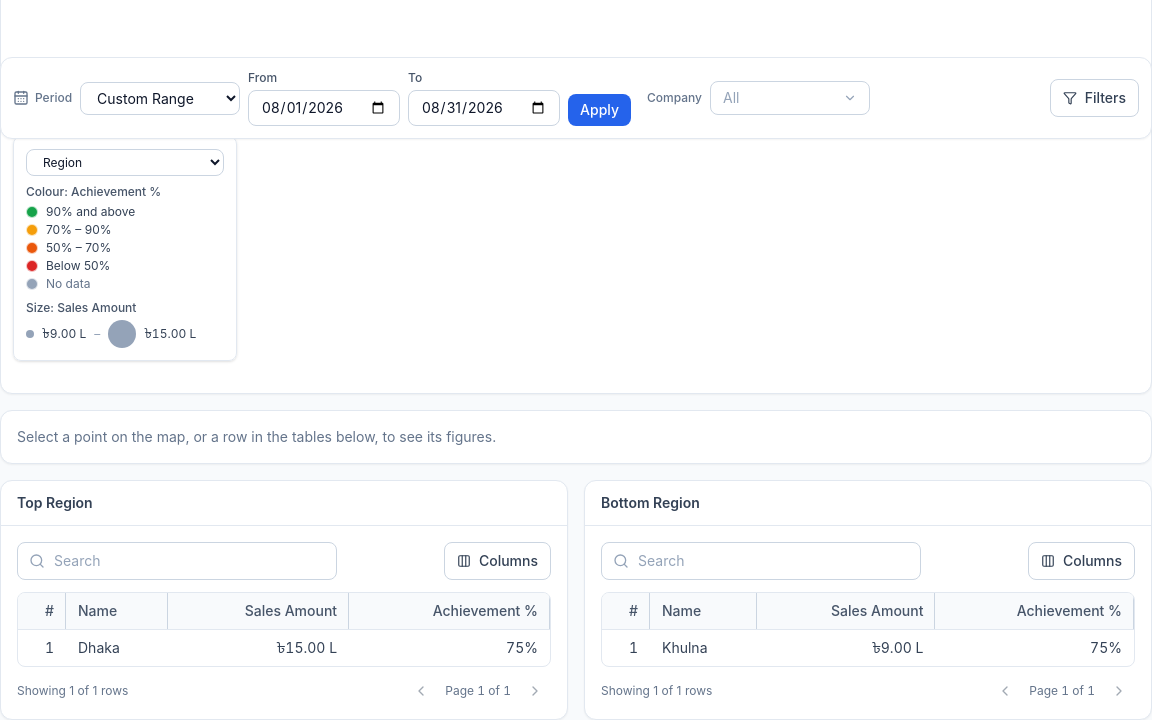
Test: Business Map page › ranks the active layer in Top and Bottom tables, and a row selects and pans to its point
The image size is (1152, 720).
(page scrolled)
Expected: the text "Dhaka" is shown, [78,639,120,656]
Expected: the text "৳15.00 L" is shown, [168,629,349,666]
Click the text "Khulna" at (685, 647), box [662,639,708,656]
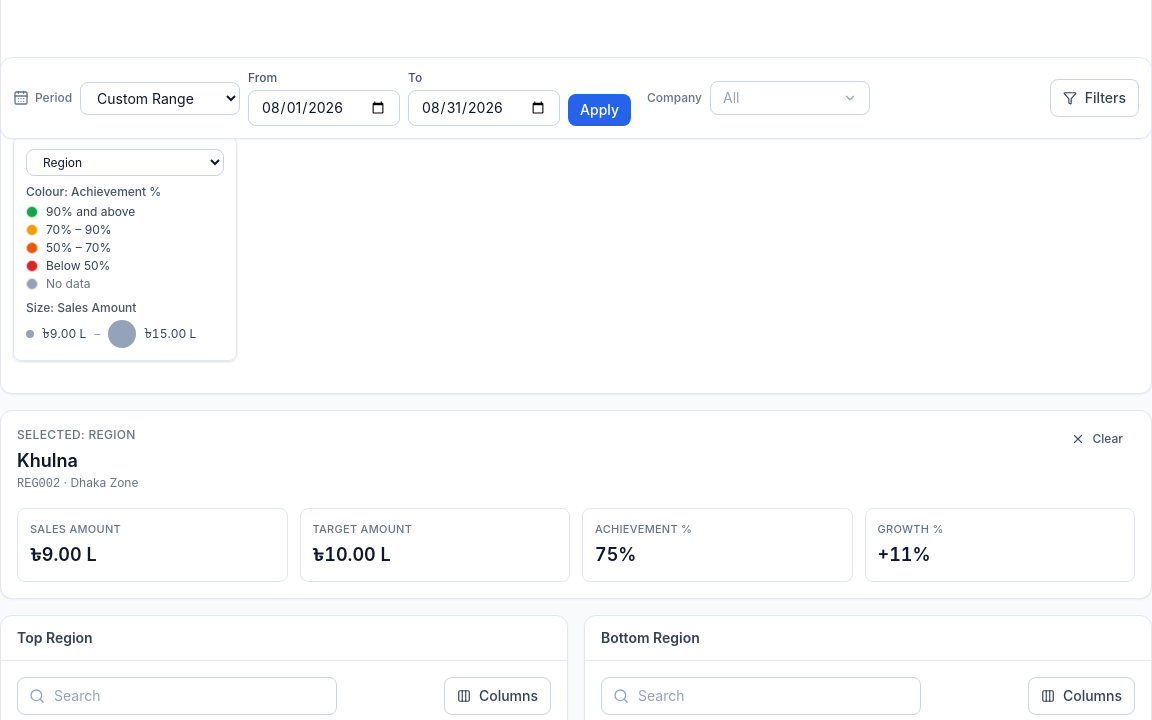
Expected: the heading "Khulna" is shown, [17,450,78,471]
